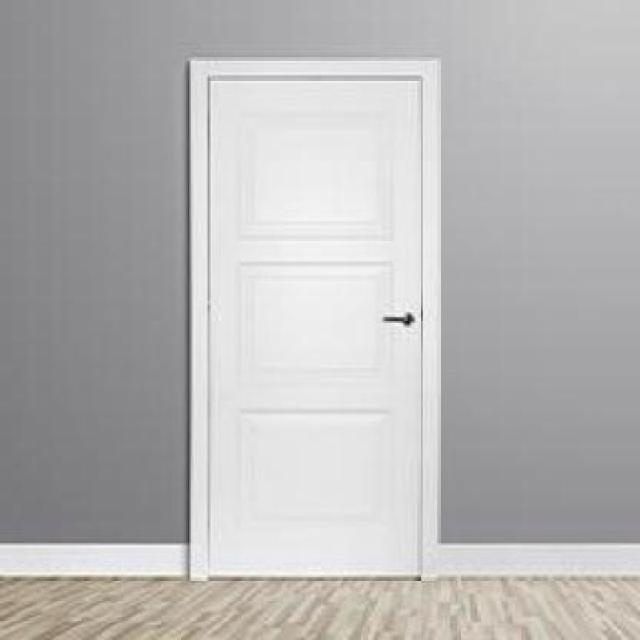door_handle: (369, 311, 412, 332)
